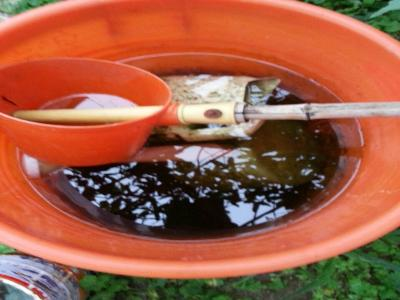bowl: (1, 56, 173, 169)
bucket: (1, 1, 399, 283)
